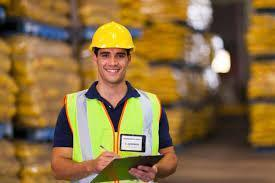helmet: (88, 21, 136, 51)
